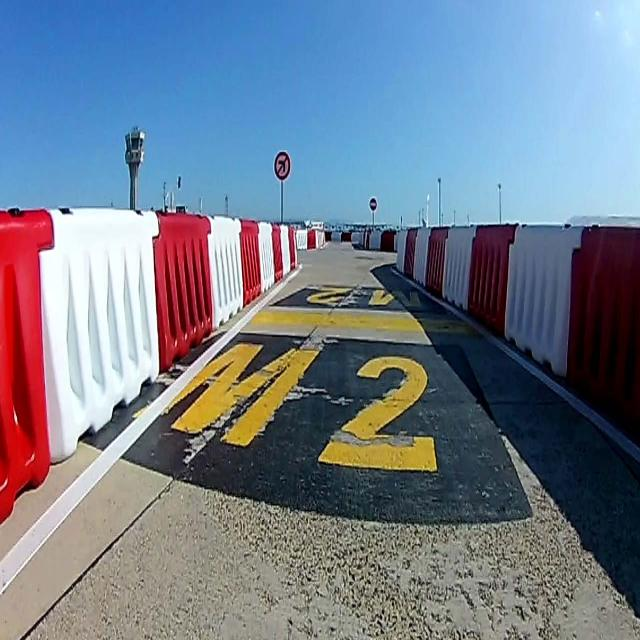girisyok: (369, 195, 377, 210)
soladonulmez: (273, 150, 290, 182)
